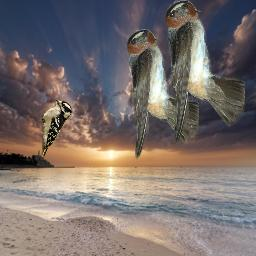Swallow: (164, 0, 245, 146), (126, 29, 199, 160)
Woodpecker: (40, 98, 72, 156)
